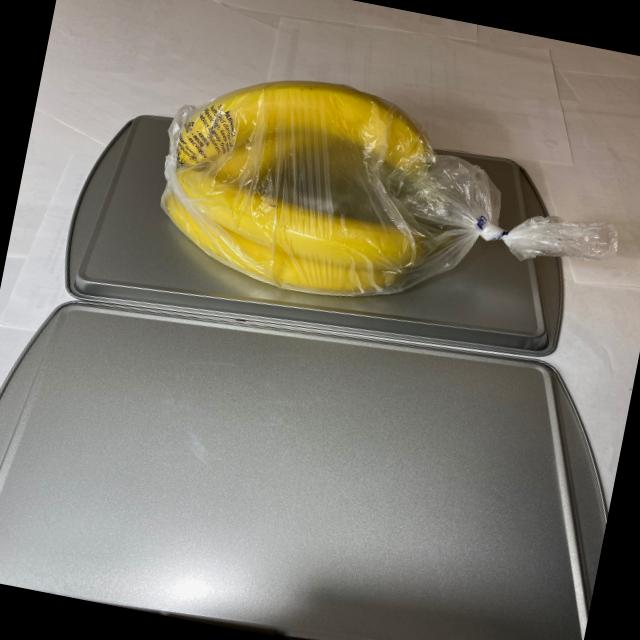banana: (113, 44, 490, 326)
